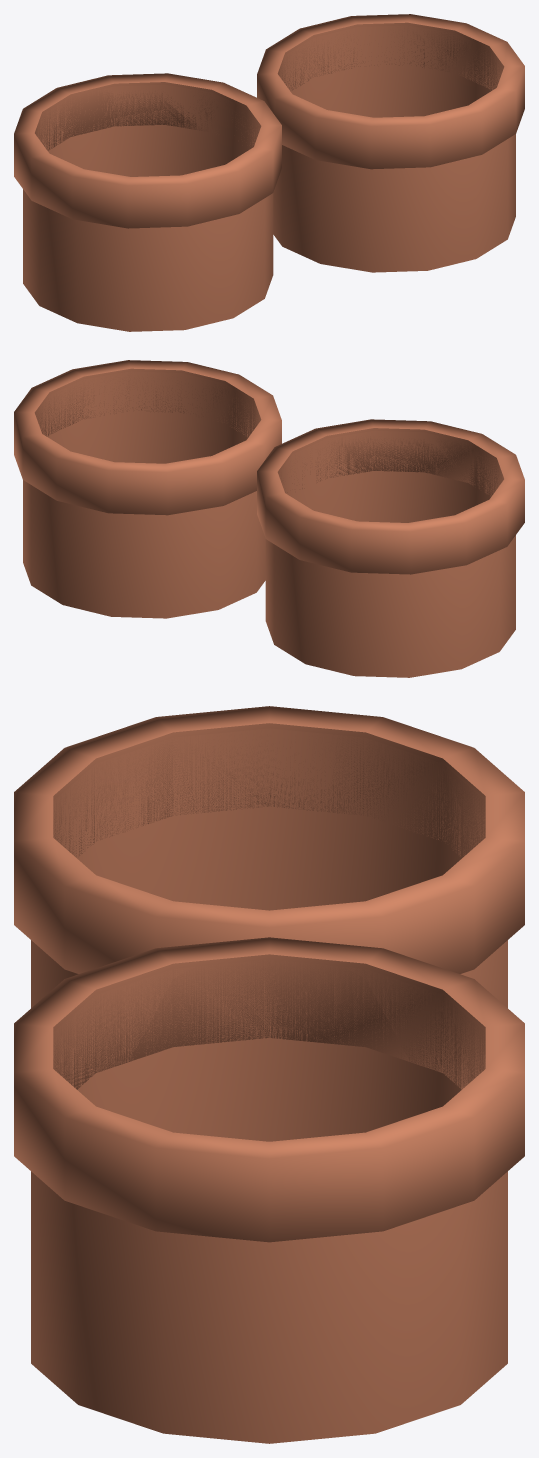
File: hand_knit_socks.glb
3 views of the same model, one above another, from view 1: azimuth 30°, elevation 25°; view 2: azimuth 150°, elevation 25°; view 3: azimuth 270°, elevation 25° (orthographic). The views are drawn at different scales.
Visible parts, largest first — view 1: hand_knit_socks_LegL, hand_knit_socks_LegR; view 2: hand_knit_socks_LegL, hand_knit_socks_LegR; view 3: hand_knit_socks_LegR, hand_knit_socks_LegL.
Boxes of the visible parts, box(x1,y1,x2,y2) form: hand_knit_socks_LegL: box(14, 73, 281, 331); hand_knit_socks_LegR: box(257, 14, 524, 272); hand_knit_socks_LegL: box(257, 419, 524, 677); hand_knit_socks_LegR: box(14, 360, 281, 618); hand_knit_socks_LegR: box(14, 937, 524, 1443); hand_knit_socks_LegL: box(14, 706, 524, 1007).
Size of the model in its own units: 0.372 by 0.112 by 0.1774.
